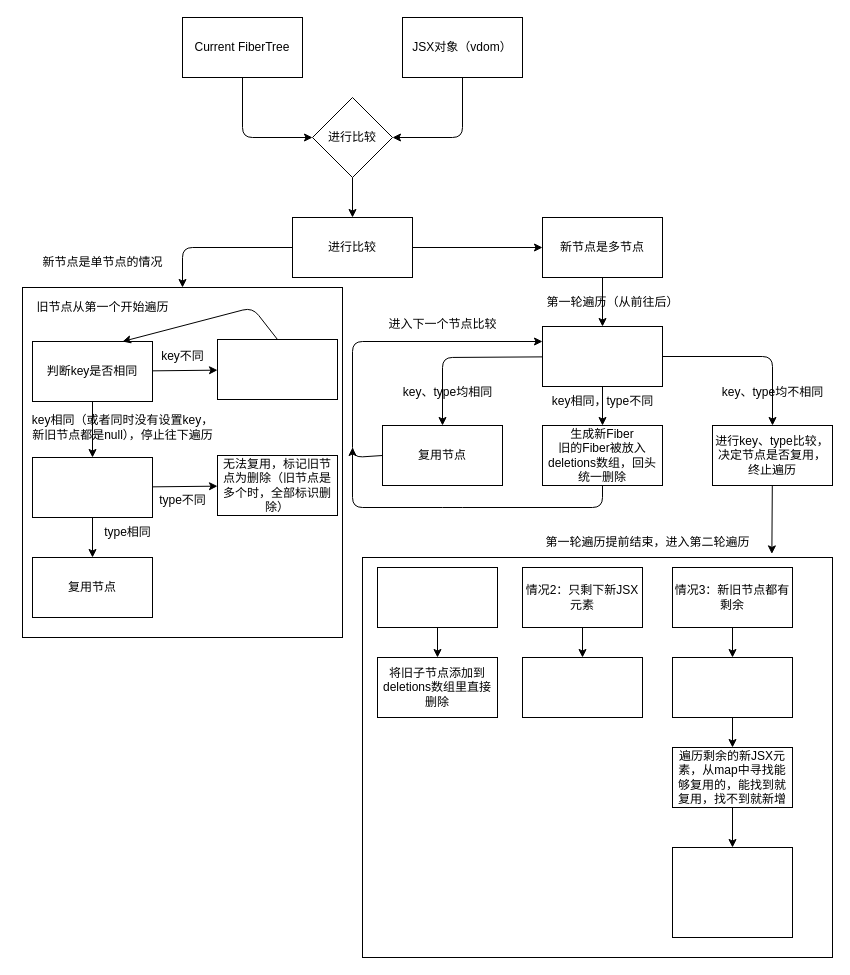
Some shapes in this 850 by 975 pixel diagram are drawn without their labels. Here are the shapes that lost their labels. From the top down, the centre of each, then its label:
pixel 277 369: 旧节点进入下一个节点遍历
pixel 602 356: 进行key、type比较，决定节点是否复用
pixel 92 487: 判断type是否相同
pixel 437 597: 情况1：只剩下旧子节点
pixel 582 687: 根据ReactElement创建新的FiberNode节点
pixel 732 687: 将剩余的旧FiberNode放入一个map
pixel 732 892: 新JSX元素遍历完成，map中还剩余FiberNode，将这些FiberNode添加到deletions数组中
